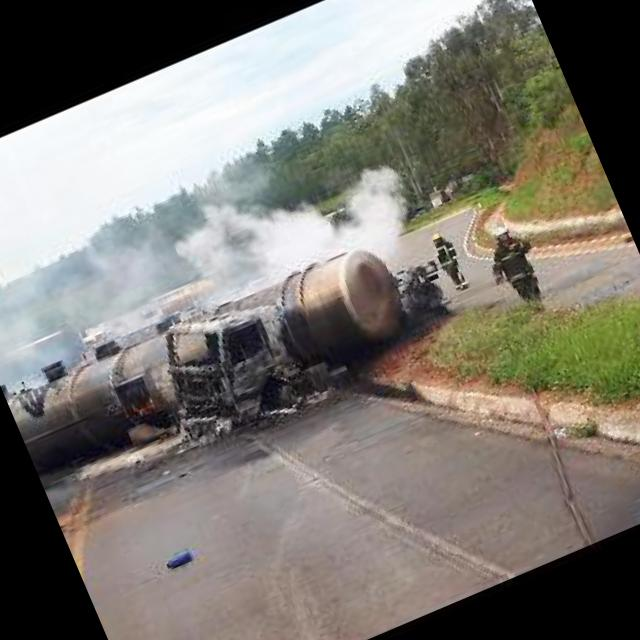fire: (128, 393, 158, 414)
smoke: (173, 140, 417, 318)
